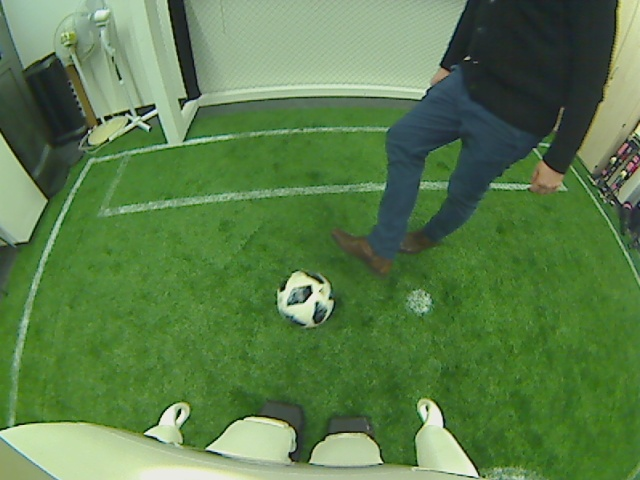ball: (276, 267, 335, 331)
